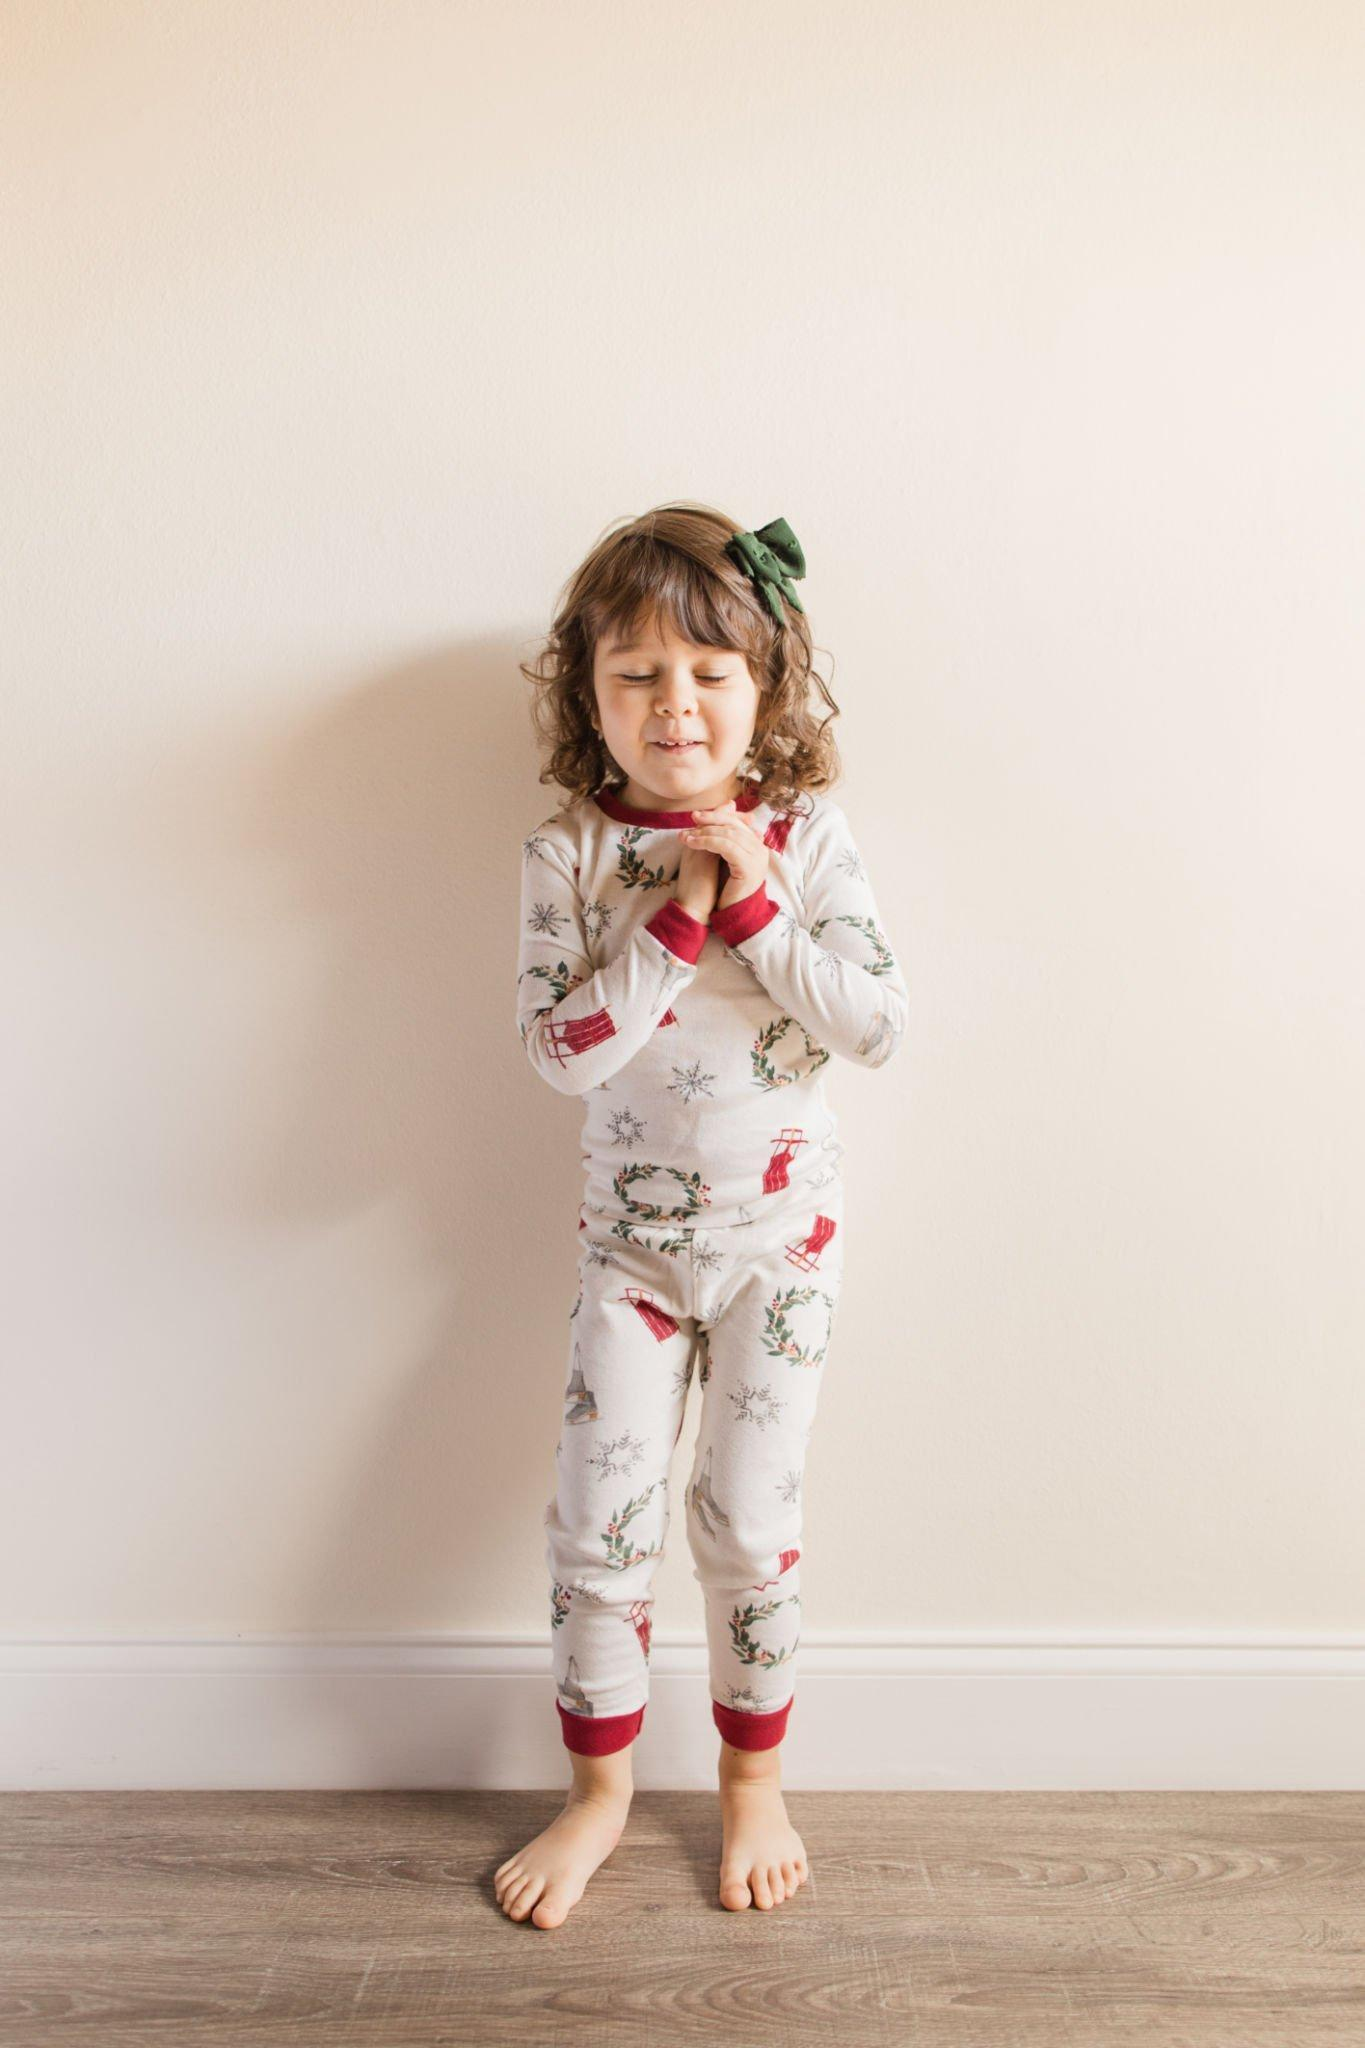Healthy: (542, 582, 783, 809)
